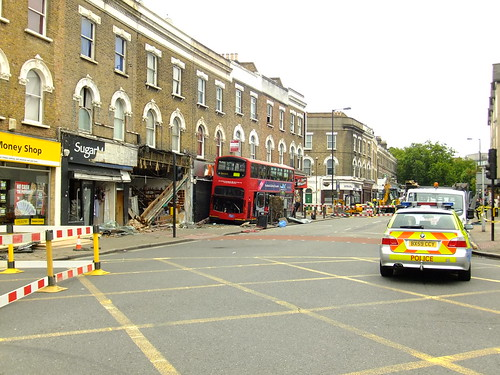building: (1, 13, 316, 228), (307, 105, 379, 216), (131, 150, 192, 238)
bus: (210, 152, 295, 222)
car: (377, 196, 476, 286)
sky: (233, 1, 497, 137)
street: (1, 213, 500, 375)
tree: (395, 133, 472, 195)
